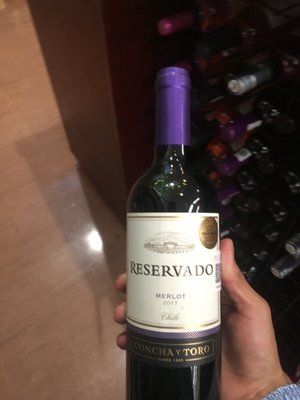reservado merlot: (116, 72, 242, 400)
